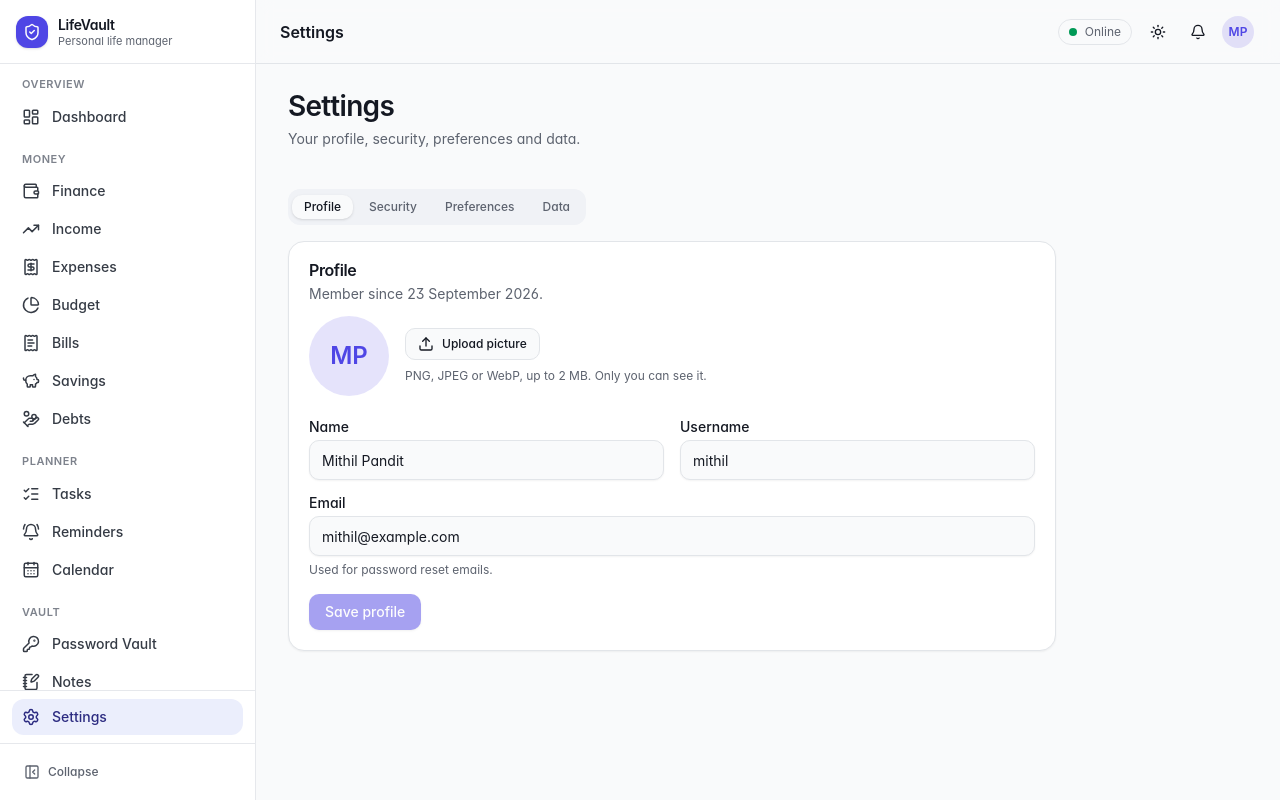
Test: settings: profile › saves the name without asking for the password
This screenshot has width=1280, height=800.
Replace the text in the field labelled "Name" with "Mithil P." at (486, 460), box top-left (309, 440), bottom-right (664, 480)
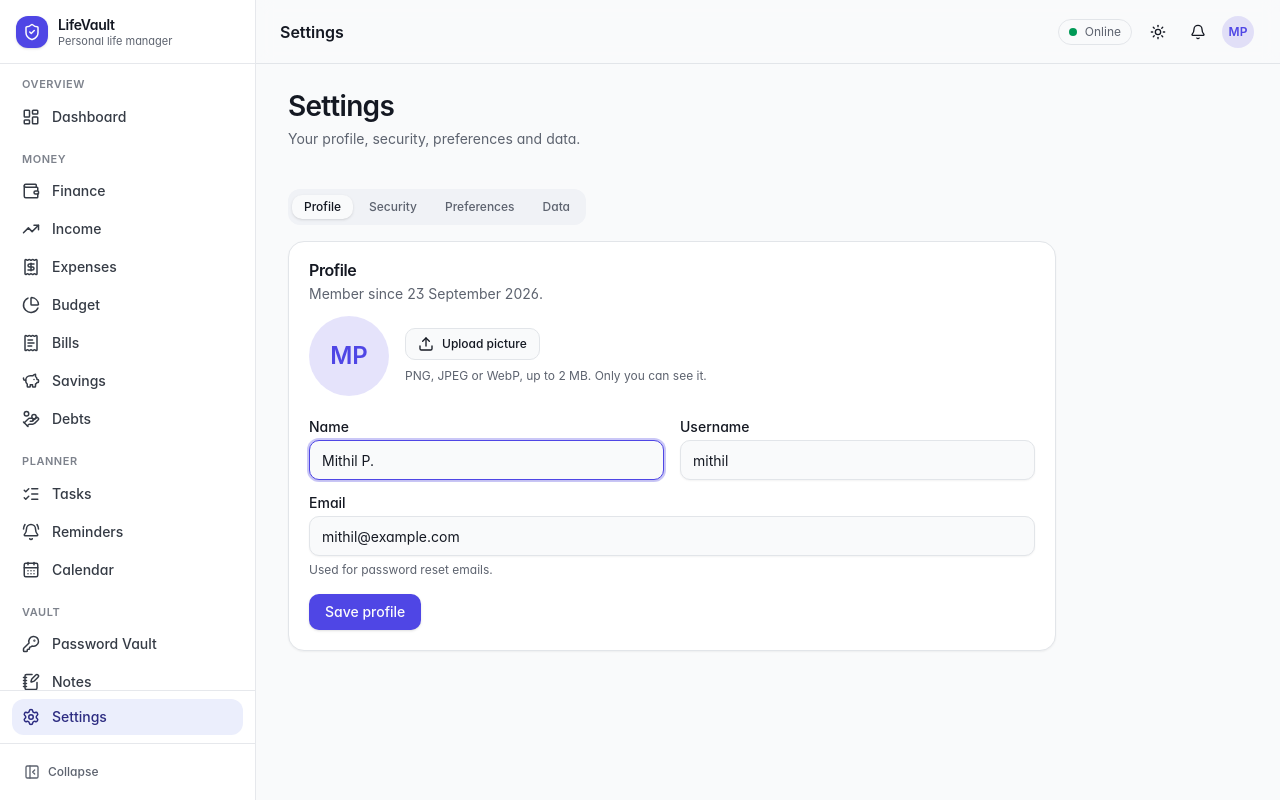
Click the button "Save profile" at (365, 612), box top-left (309, 594), bottom-right (421, 630)
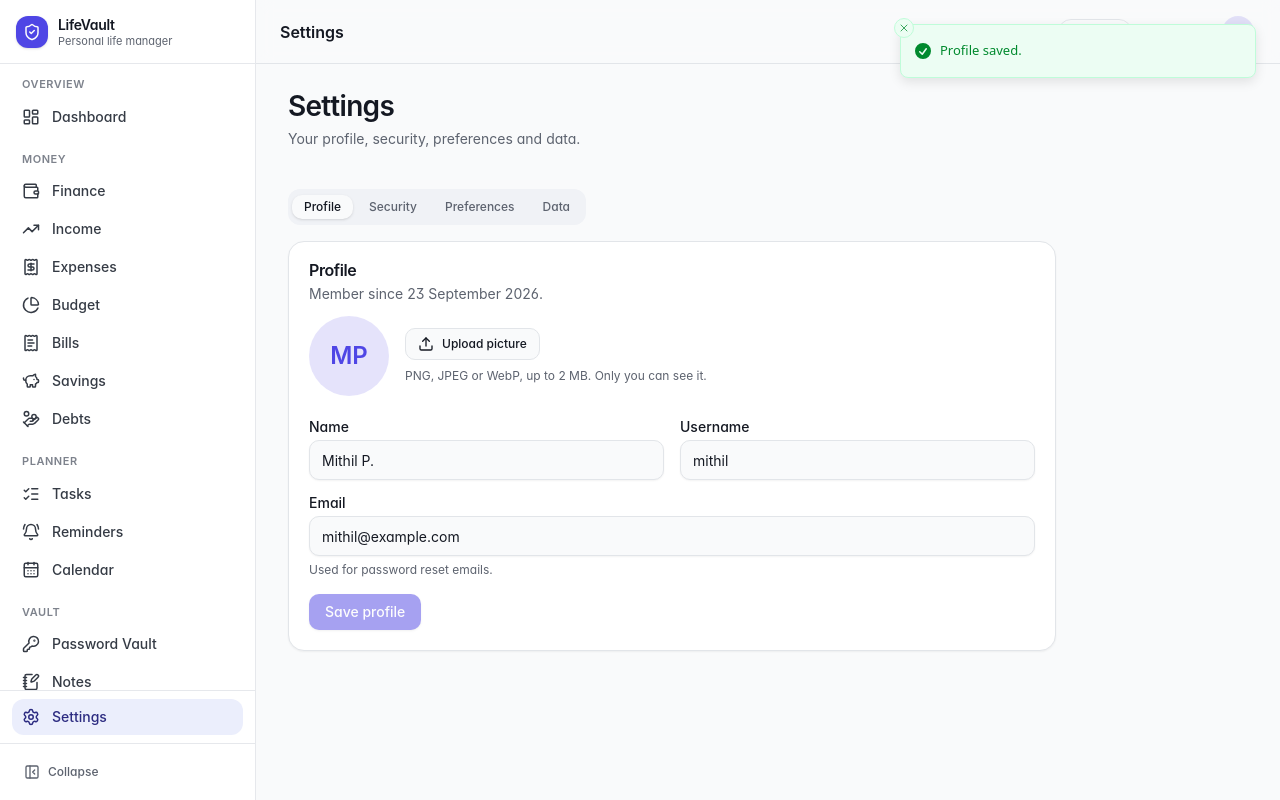
Expected: the text "Profile saved." is shown, top-left (940, 41), bottom-right (1022, 60)
